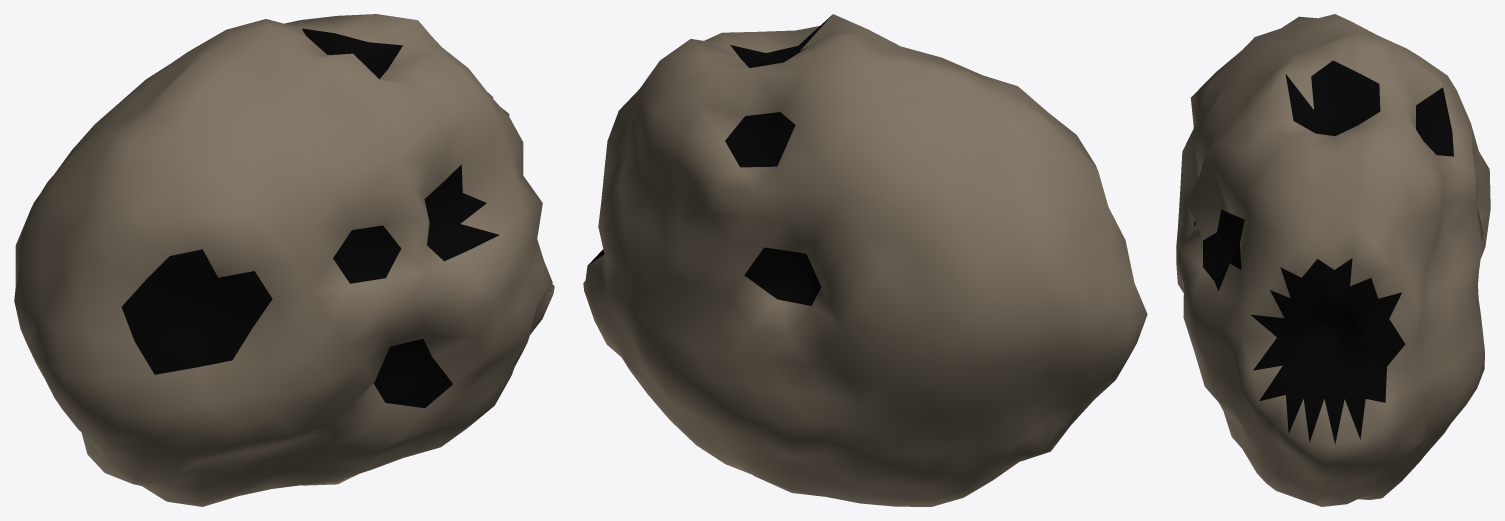
File: asteroid_05.glb
The picture shows the model from 3 angles, left to right: view 1: azimuth 30°, elevation 25°; view 2: azimuth 150°, elevation 25°; view 3: azimuth 270°, elevation 25°; orthographic projection. The views are drawn at different scales.
Parts seen in each view (by area): view 1: Asteroid_05; view 2: Asteroid_05; view 3: Asteroid_05.
Boxes of the visible parts, x1,y1,x2,y2 form: Asteroid_05: (14,14,554,506); Asteroid_05: (583,14,1147,506); Asteroid_05: (1176,14,1490,506).
Size of the model in its own units: 2.35 by 1.95 by 1.31.
